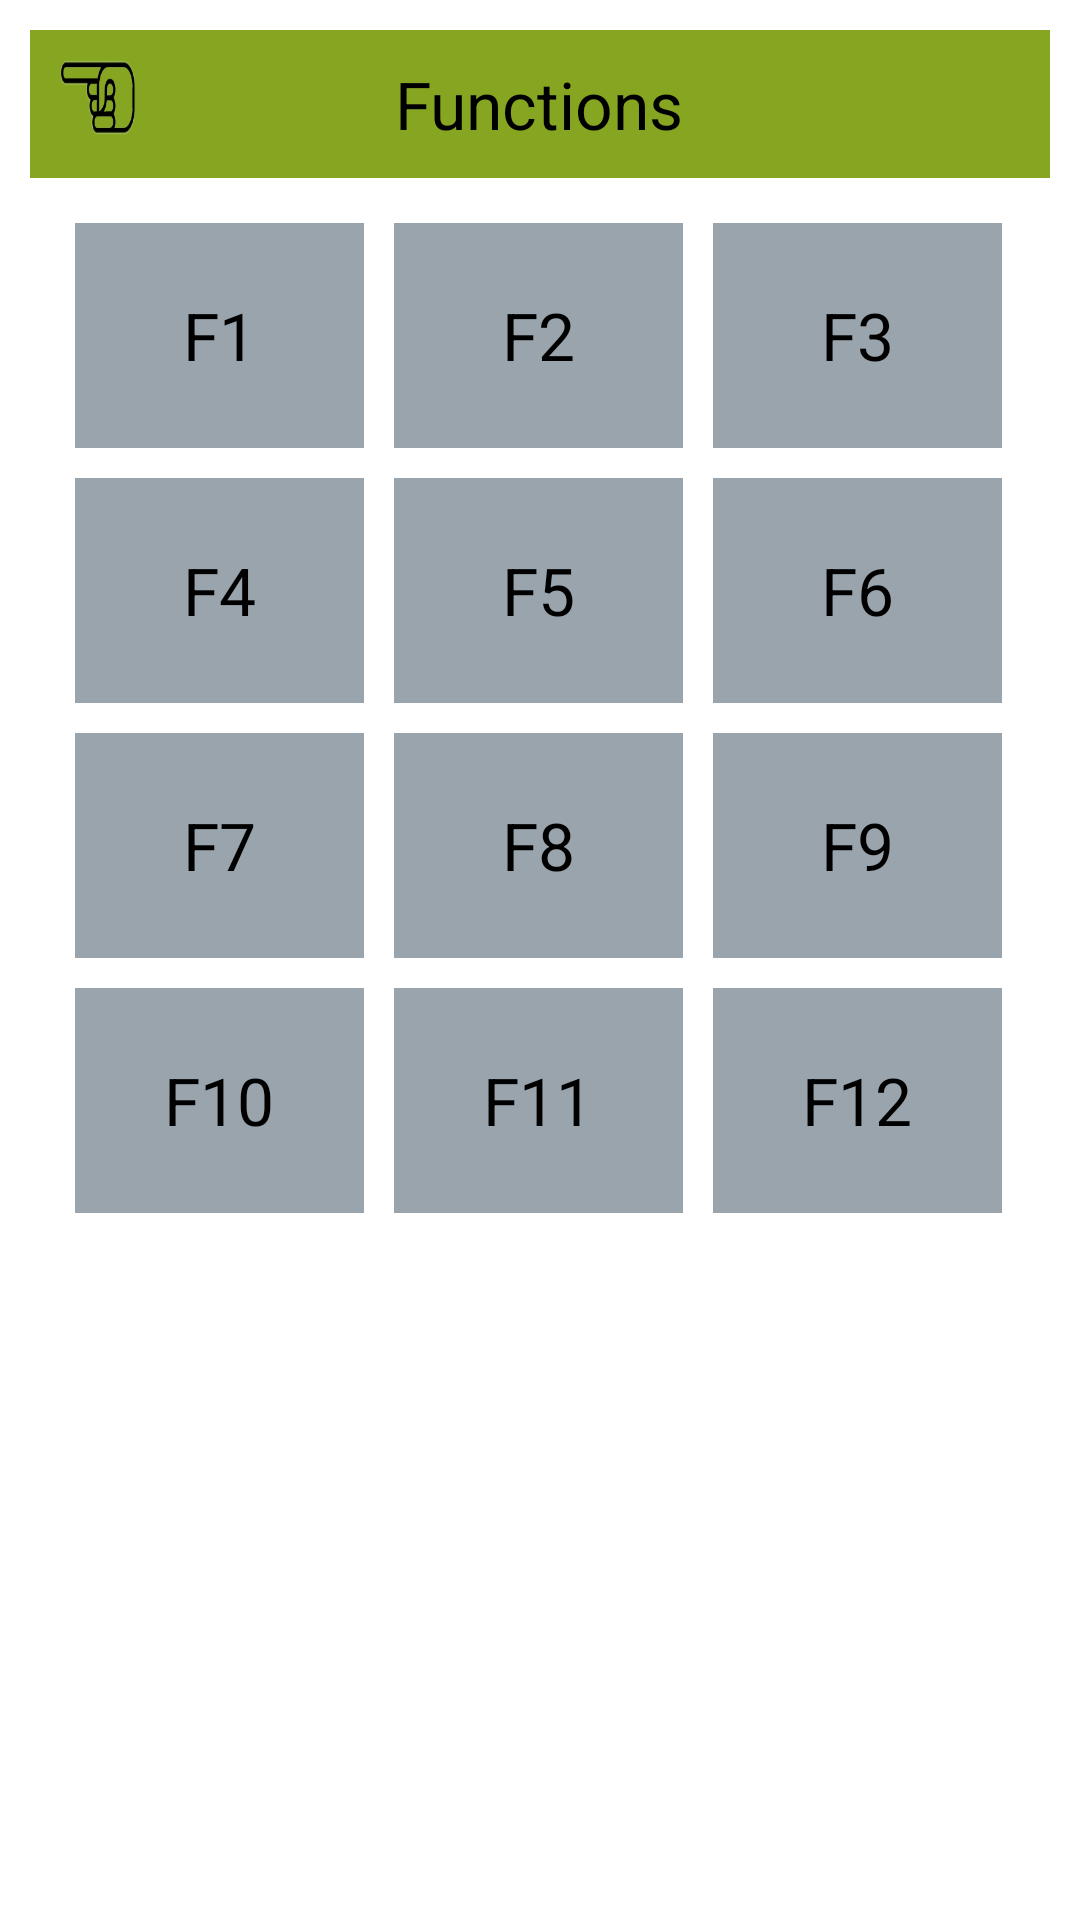

Named icons in this screenshot (1080×1920) and their bounding boxes, (x1=x1, y1=y1, x2=x2, y2=y2):
prev: (x1=60, y1=61, x2=135, y2=134)
